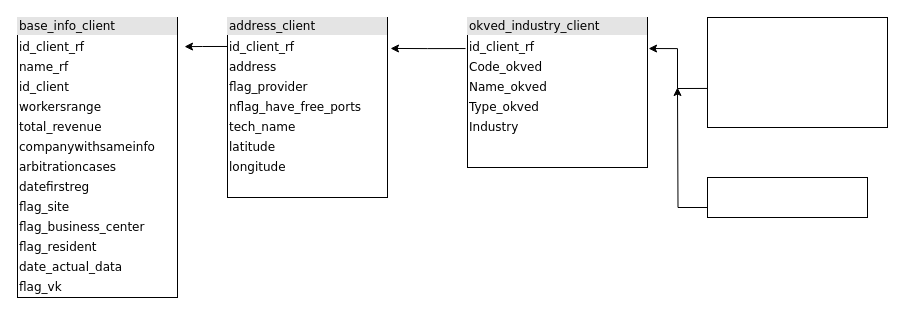
This 905x315 diagram has some shape labels left out. The box of each missing label's shape, as (x1, y1, x2, y2) in pixels:
final_list id_client_rf: (706, 176, 868, 218)
sales month_sale day_sale id_client_rf sale_size: (706, 16, 888, 128)
